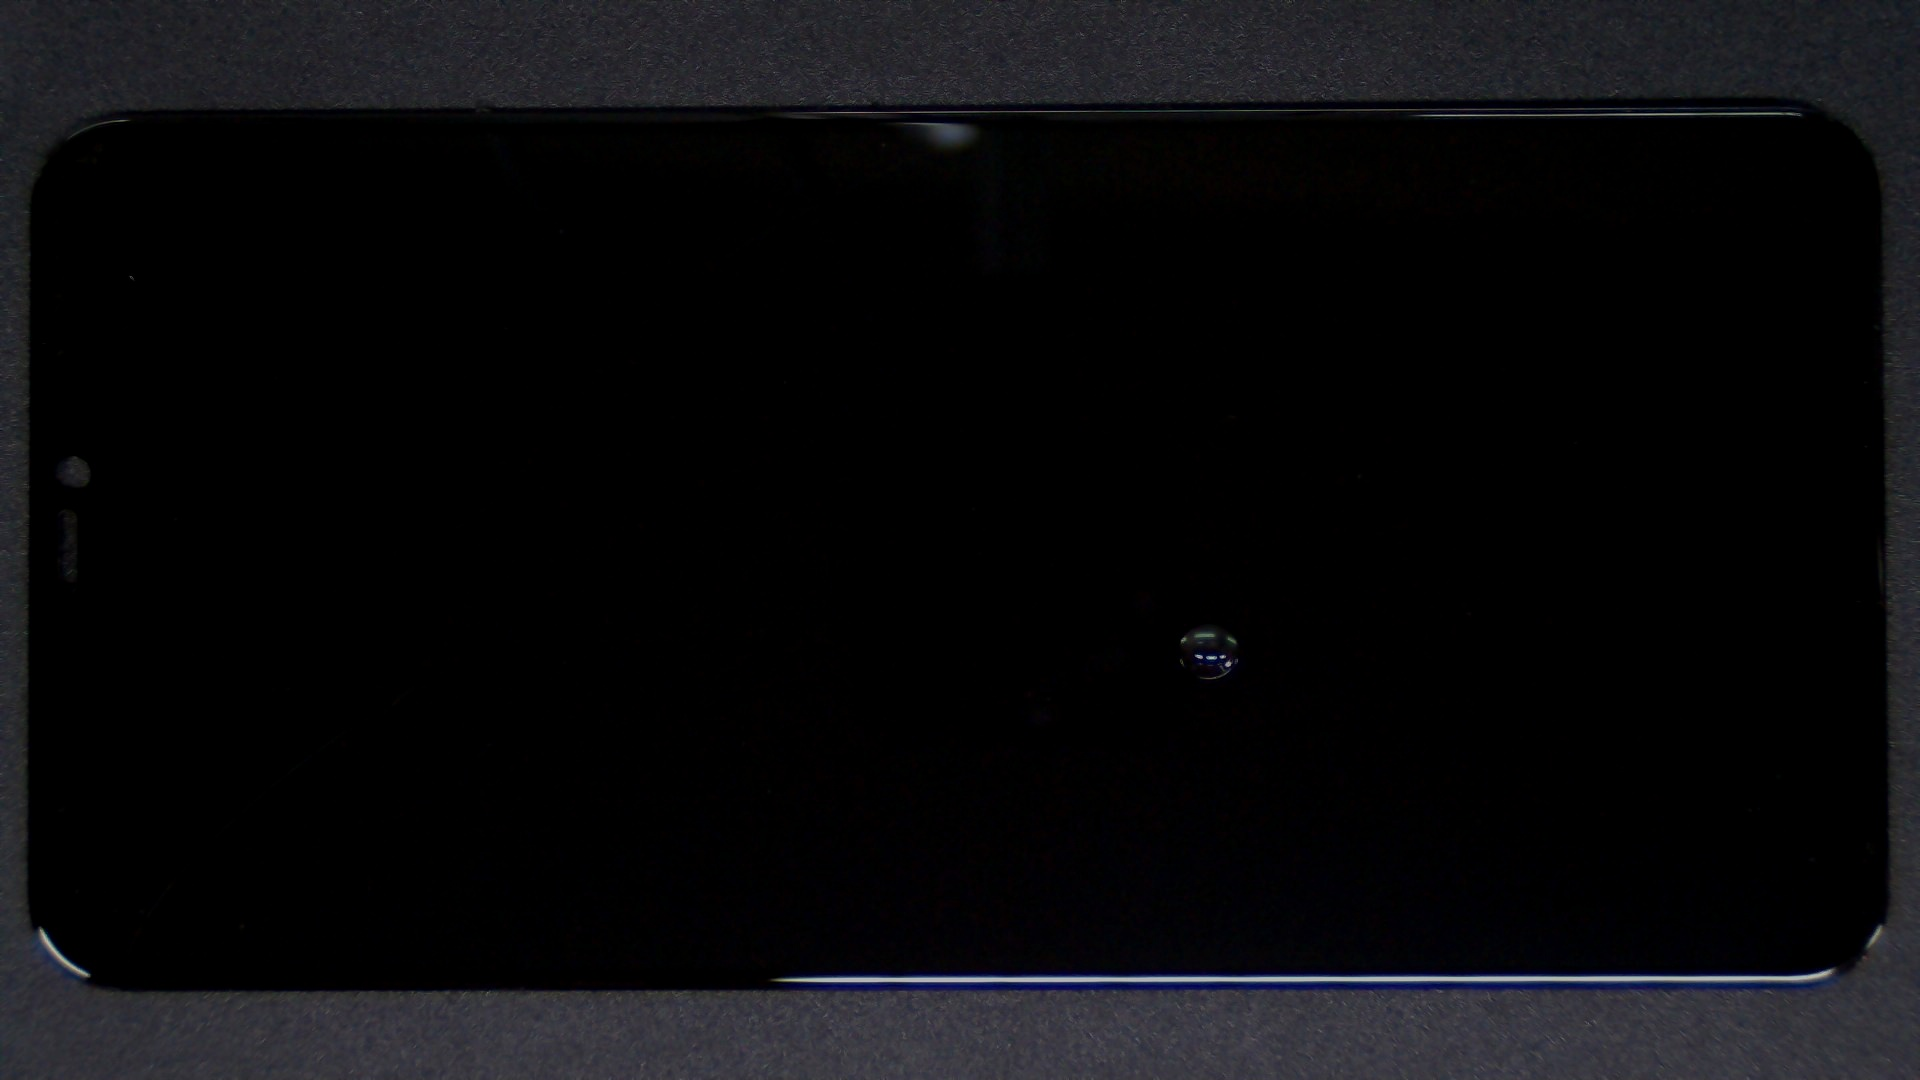oil: (604, 311, 1811, 935)
